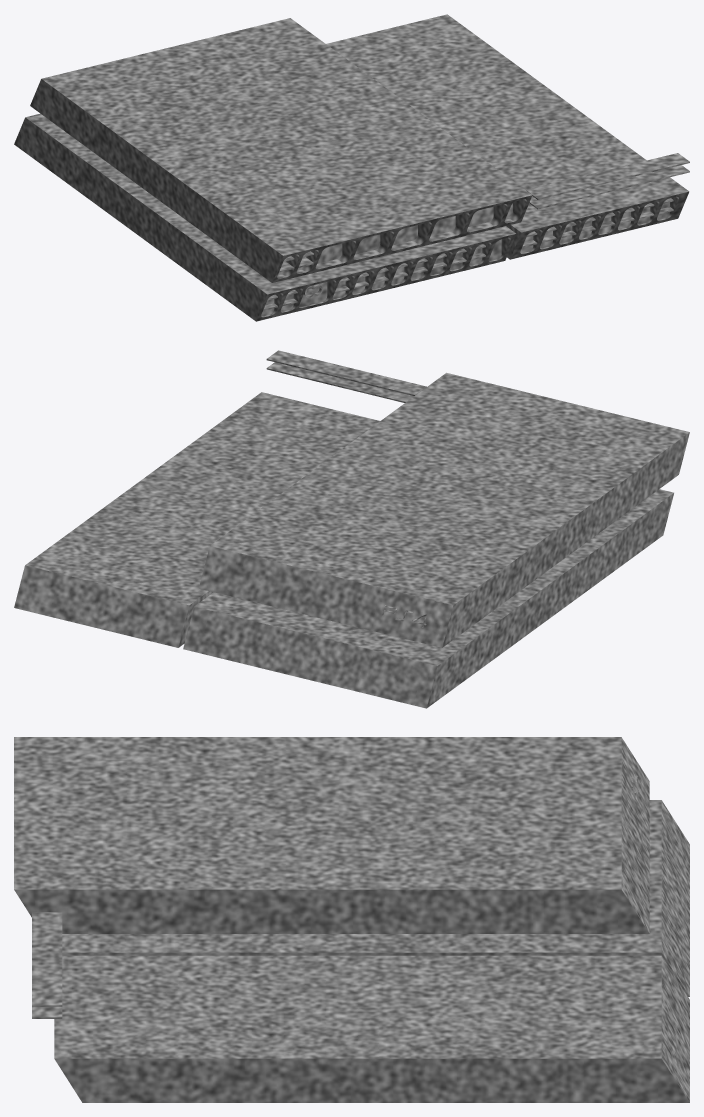
File: Playstation_Body.obj
The picture shows the model from 3 angles, top to bottom: view 1: azimuth 30°, elevation 25°; view 2: azimuth 150°, elevation 25°; view 3: azimuth 270°, elevation 25°; orthographic projection. The views are drawn at different scales.
Bounding box in the file's own units: 0.2748 × 0.0533 × 0.3038.
1 material, 1 textured.
